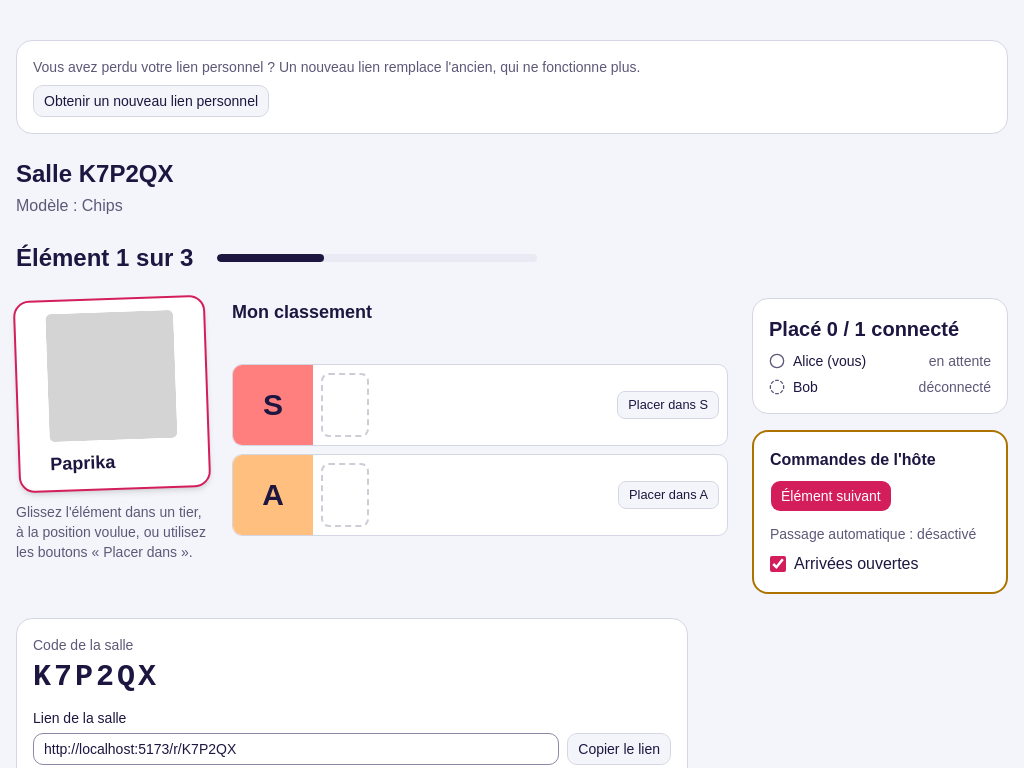
Test: GameScreen › lets the room admin move on to the next item
Check: the text "Passage automatique : désactivé" is shown, box [770,524,976,544]
Check: the element "Commandes de l'hôte" is shown, box [752,430,1008,594]
Click the button "Élément suivant": (831, 496) [770,480,892,512]
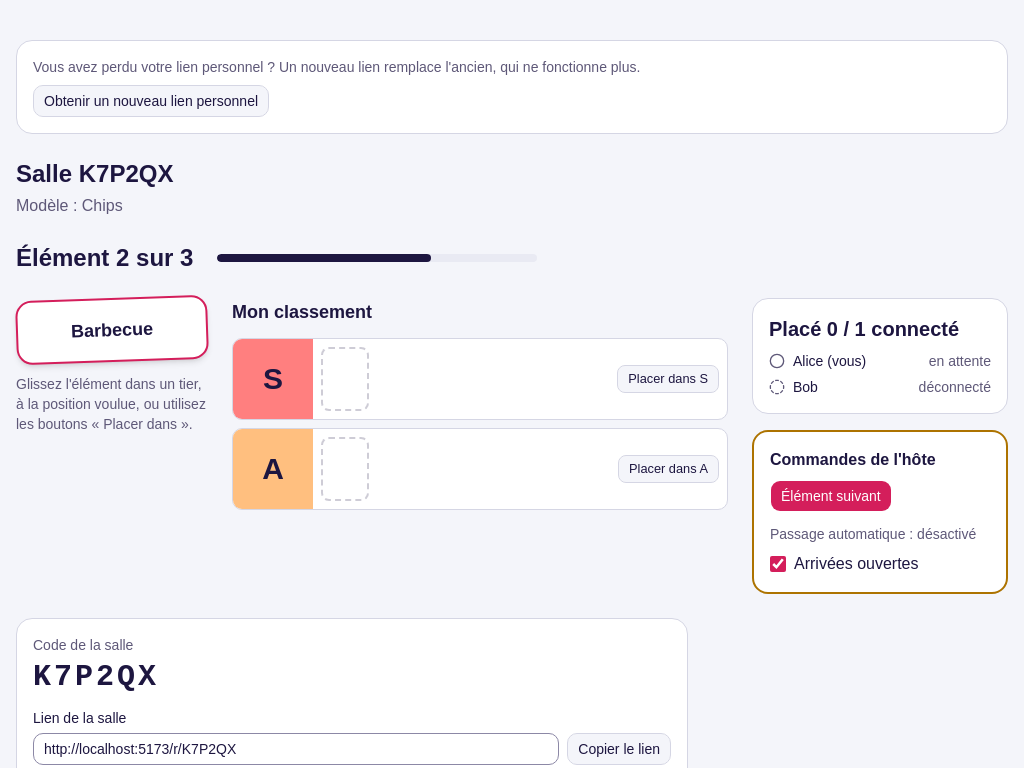
Check: the text "Élément 2 sur 3" is shown, box [16,242,193,274]
Check: the text "Barbecue" is shown, box [70,315,154,345]
